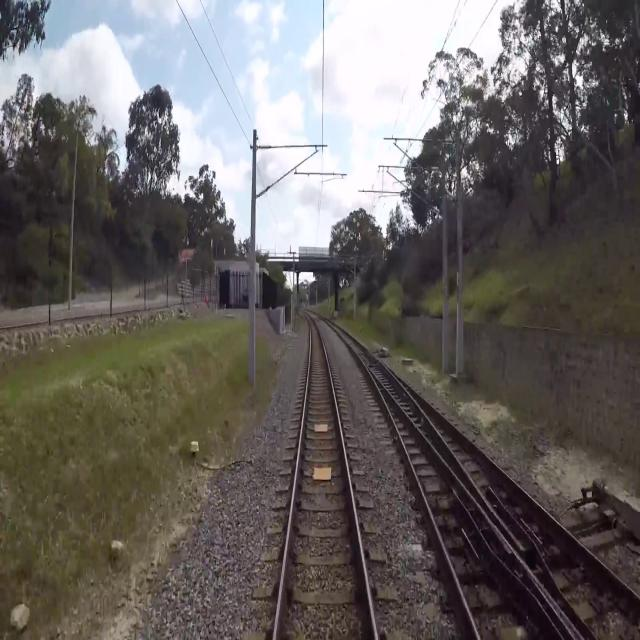rail-track: (410, 391, 640, 639), (379, 385, 578, 639), (277, 317, 374, 639), (336, 327, 474, 493)
